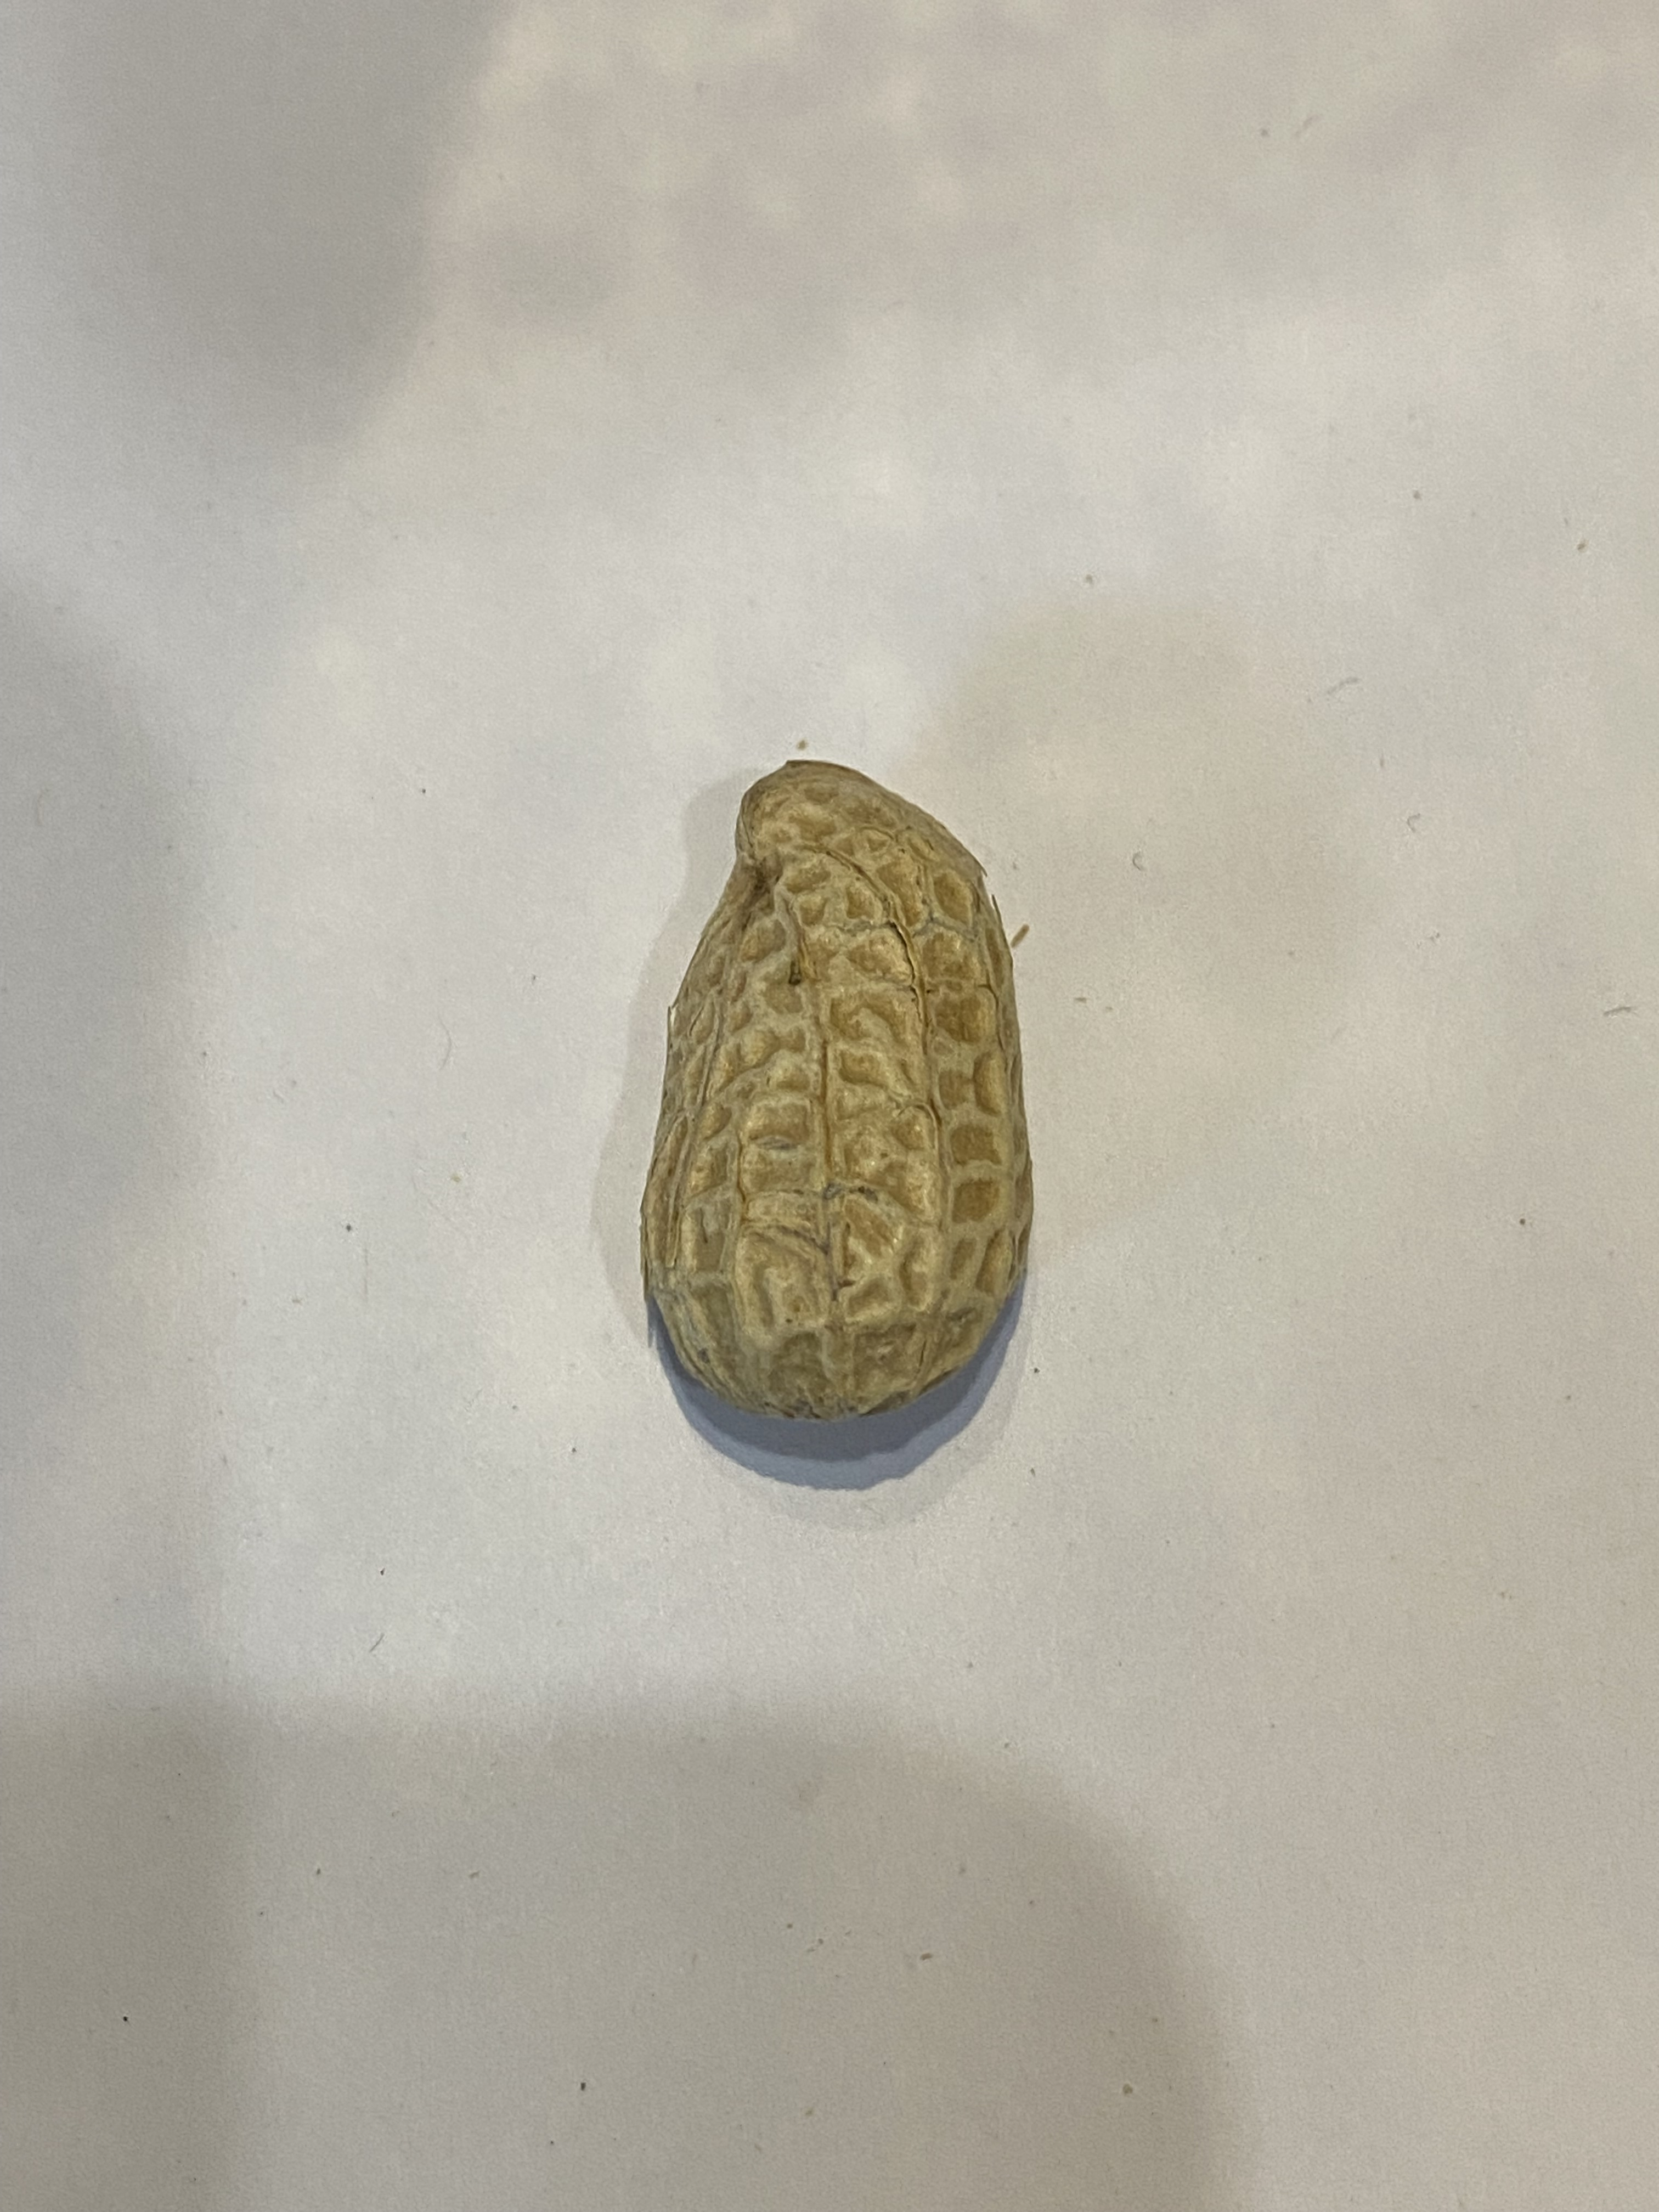kacang1: (629, 723, 1040, 1439)
